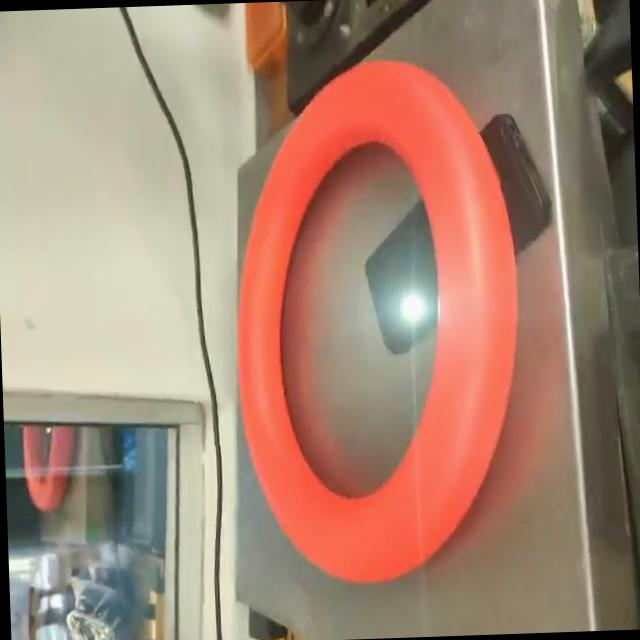note: (226, 47, 532, 590), (21, 422, 78, 512)
